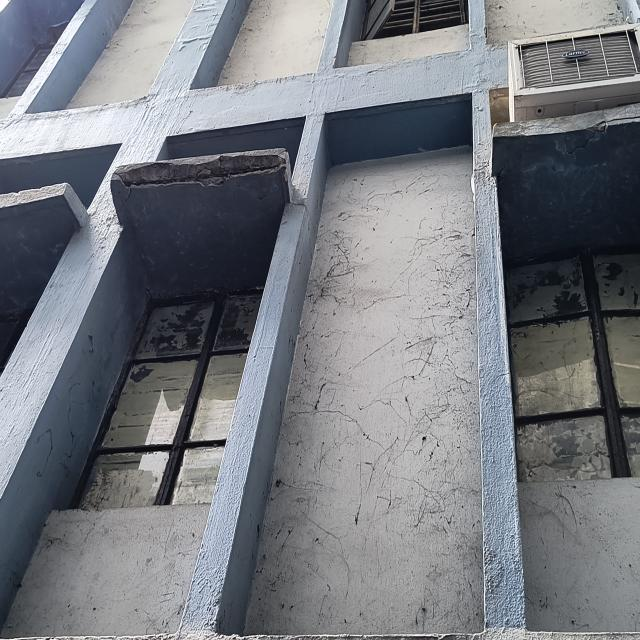crack: (561, 112, 640, 160)
spalling: (109, 148, 288, 203)
